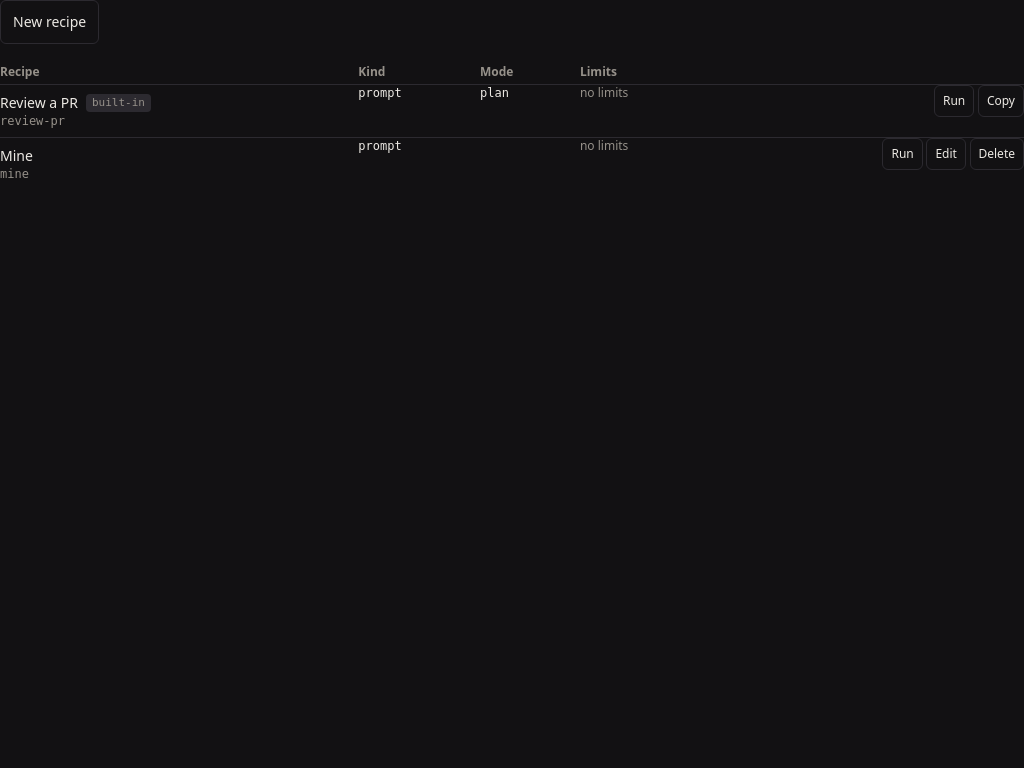
RecipesTab › Run asks for required inputs first
Click the button "Run" in the row of "Review a PR" at (954, 101), box [934,85,974,117]
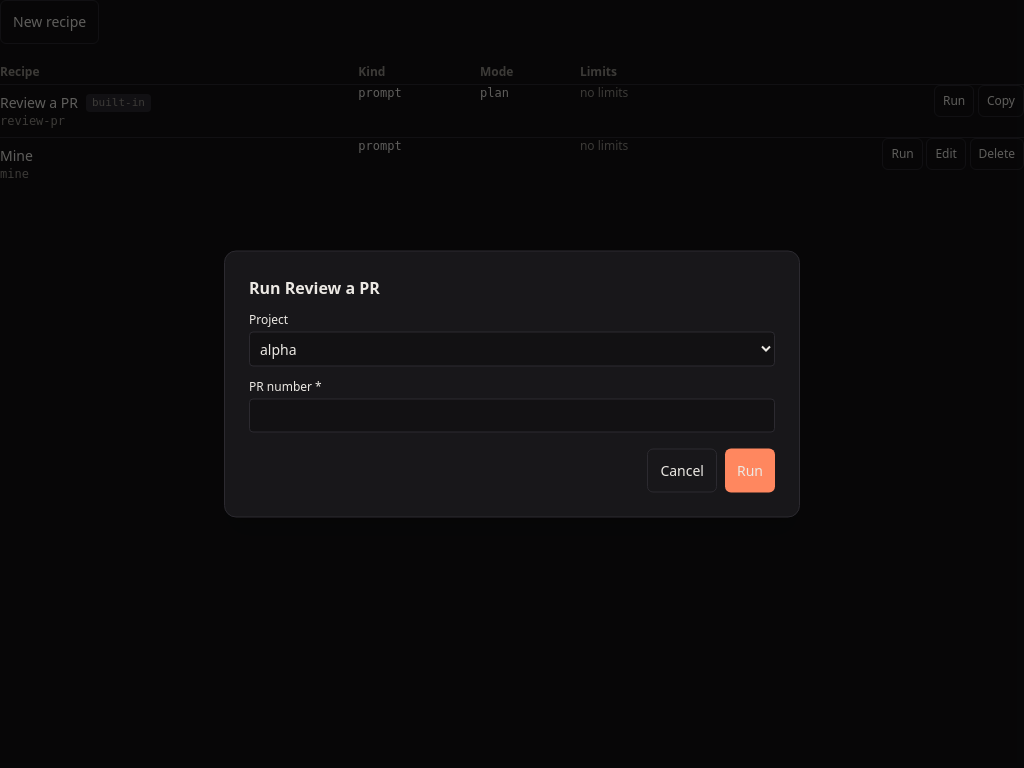
Click the button "Run" at (750, 470), box [725,448,775,492]
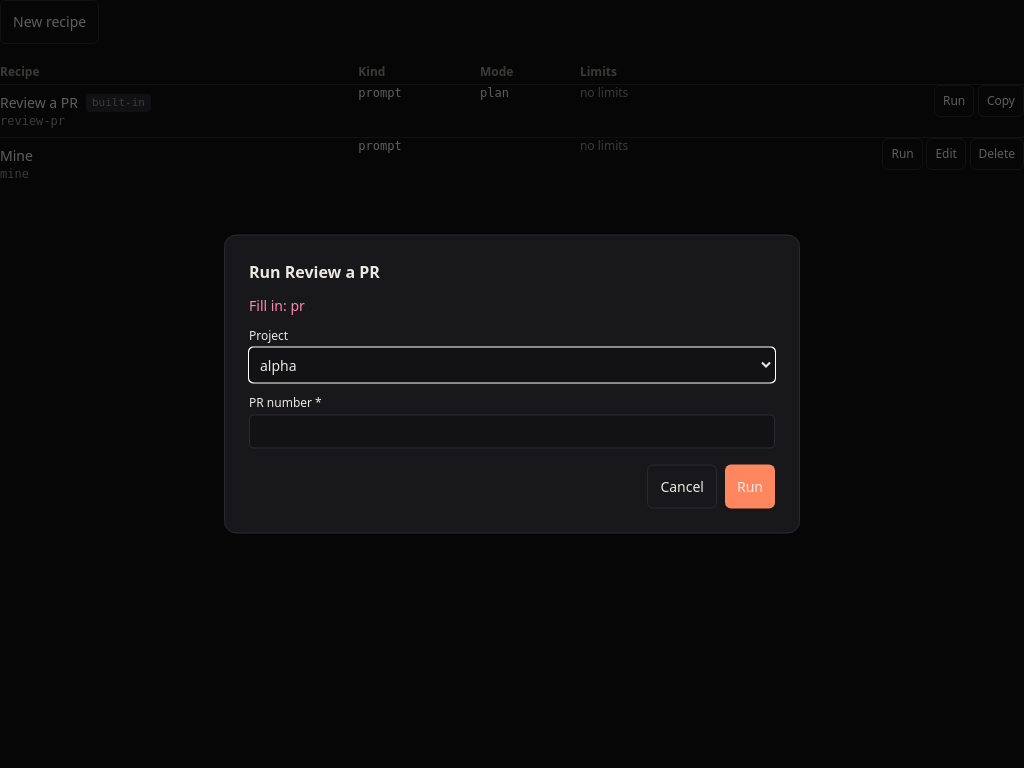
Now the message shows "pr", box [249,296,305,314]
